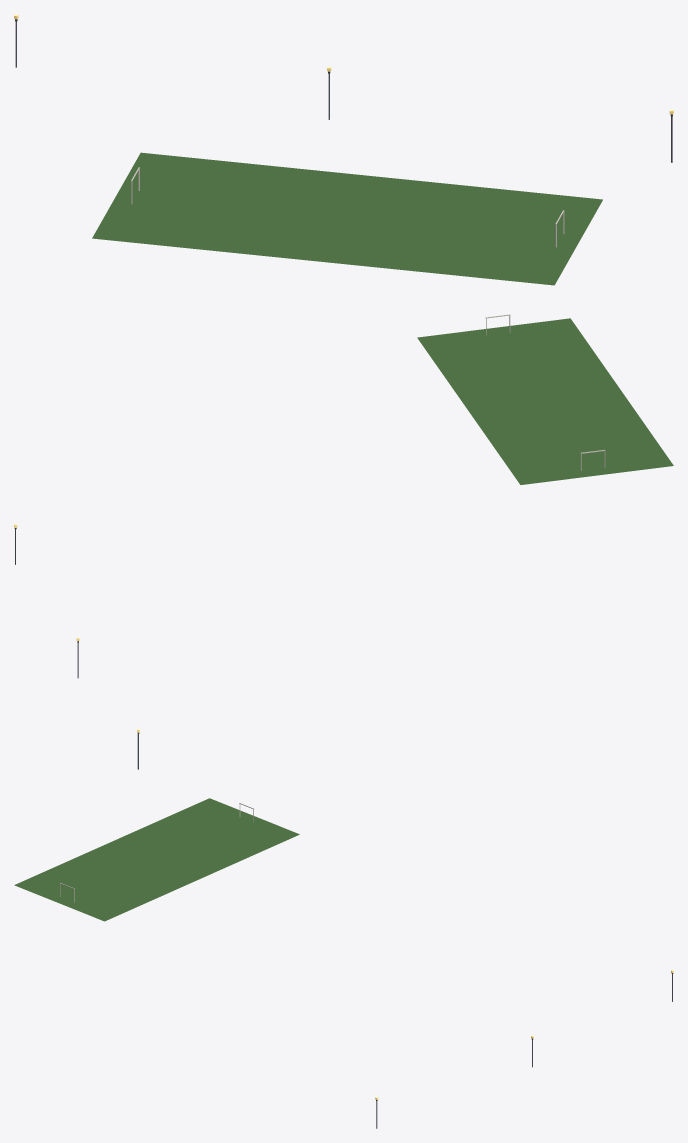
File: cell-90_495.glb
3 renders of one model, top to bottom at view 1: azimuth 30°, elevation 25°; view 2: azimuth 150°, elevation 25°; view 3: azimuth 270°, elevation 25°, orthographic. The views are drawn at different scales.
Visible parts, largest first — view 1: cell-90_495 (×2); view 2: cell-90_495; view 3: cell-90_495.
Part boxes in pixels (left/top/right/bottom): cell-90_495 (×2): left=15, top=19, right=672, bottom=285; cell-90_495: left=417, top=318, right=673, bottom=484; cell-90_495: left=14, top=798, right=299, bottom=921.
Size of the model in its own units: 33.86 by 10.15 by 44.89.
